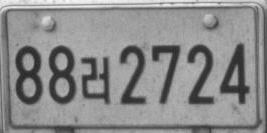2: (186, 43, 215, 105), (118, 44, 146, 105)
4: (220, 42, 250, 105)
7: (151, 44, 180, 104)
8: (14, 45, 43, 105), (47, 44, 76, 104)
러: (80, 55, 110, 105)
